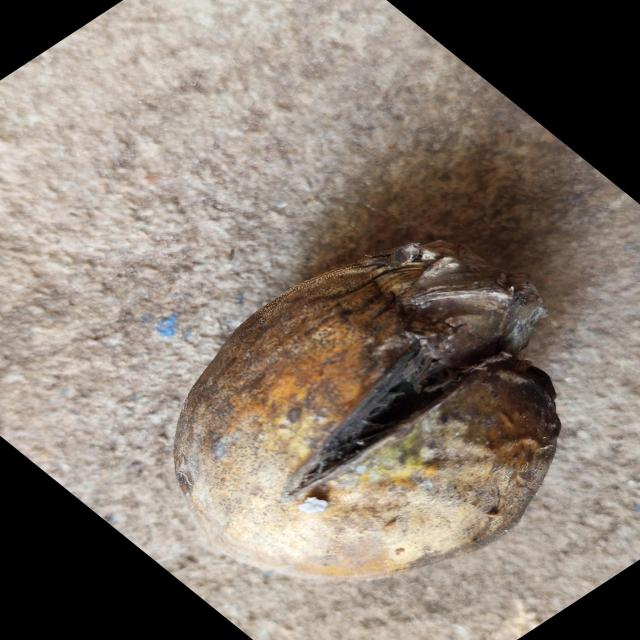damaged: (169, 244, 561, 588)
